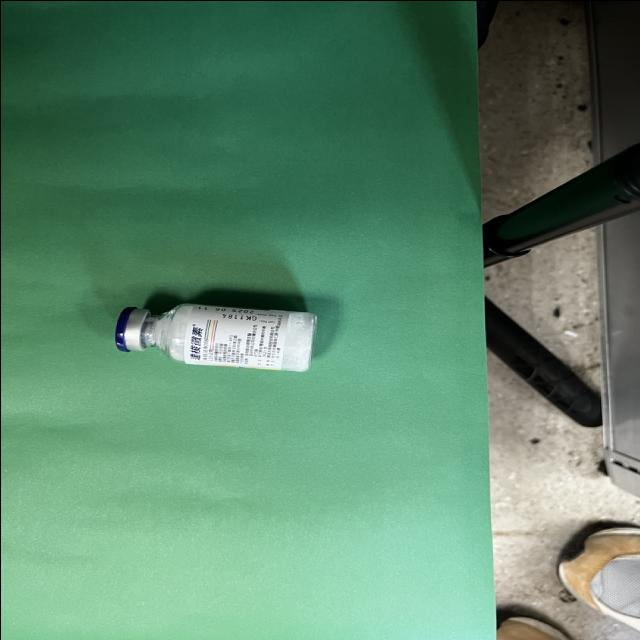Vials: (113, 302, 316, 370)
